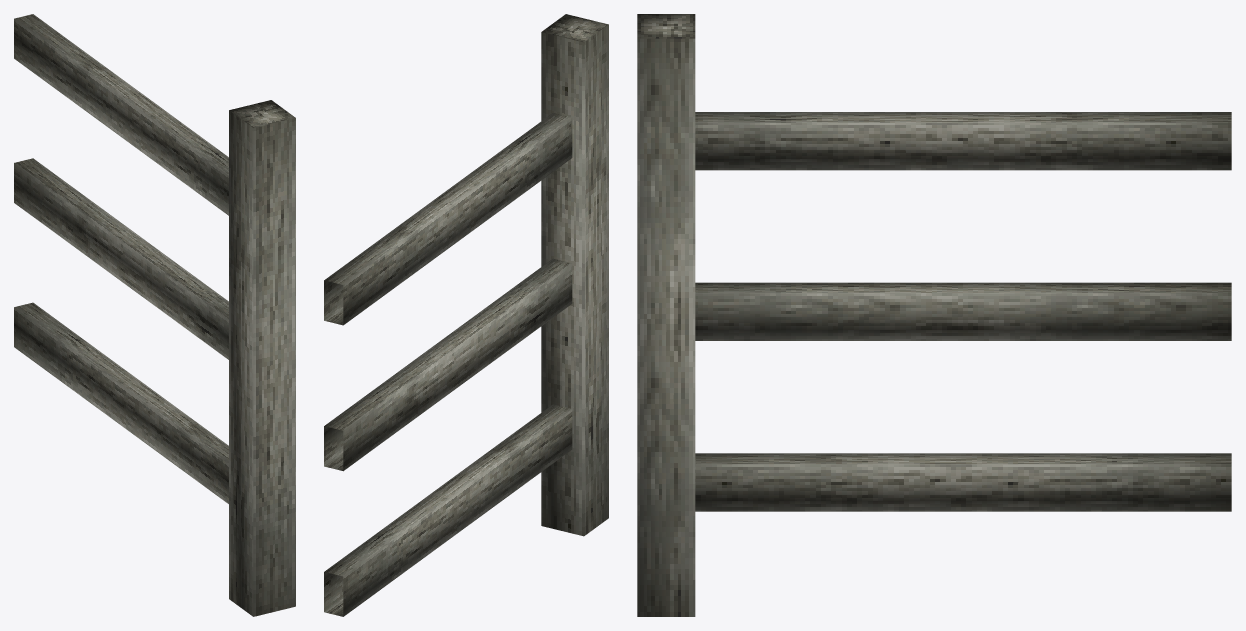
Rendered from oga_fence.glb.
The picture shows the model from 3 angles, left to right: view 1: azimuth 30°, elevation 25°; view 2: azimuth 150°, elevation 25°; view 3: azimuth 270°, elevation 25°; orthographic projection. The views are drawn at different scales.
Visible parts, largest first — view 1: oga_fence; view 2: oga_fence; view 3: oga_fence.
Boxes of the visible parts, x1,y1,x2,y2 form: oga_fence: (14, 14, 295, 616); oga_fence: (324, 14, 608, 616); oga_fence: (637, 14, 1231, 616).
Bounding box in the file's own units: 0.1227 × 1.35 × 1.26.
1 material, 1 textured.
